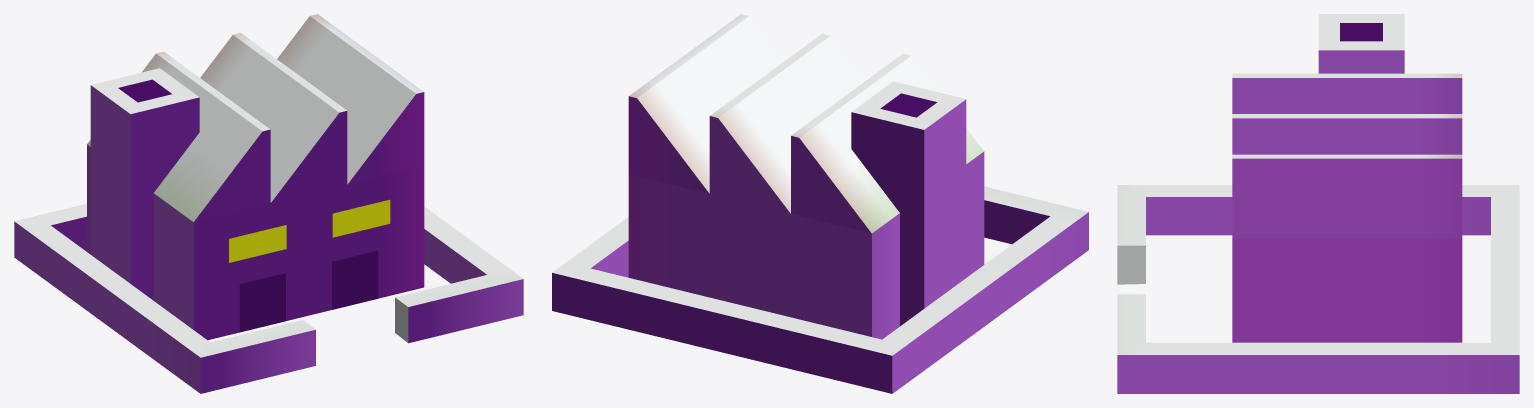
File: Factory.PurpleLightning.Snow.glb
3 views of the same model, side by side, from view 1: azimuth 30°, elevation 25°; view 2: azimuth 150°, elevation 25°; view 3: azimuth 270°, elevation 25° (orthographic). The views are drawn at different scales.
Parts seen in each view (by area): view 1: Factory.PurpleLightning.Snow; view 2: Factory.PurpleLightning.Snow; view 3: Factory.PurpleLightning.Snow.
Part boxes in pixels (box(x1,y1,x2,y2)): Factory.PurpleLightning.Snow: box(14, 14, 523, 393); Factory.PurpleLightning.Snow: box(552, 14, 1088, 393); Factory.PurpleLightning.Snow: box(1117, 14, 1519, 393).
Bounding box in the file's own units: 2.8 × 1.71 × 2.8.
Materials: 2 (1 with a texture image).
